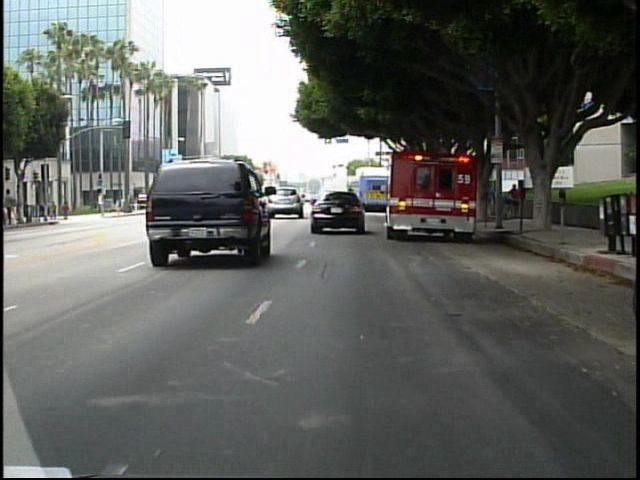person: (508, 181, 523, 223), (60, 197, 73, 223), (49, 198, 61, 222)
